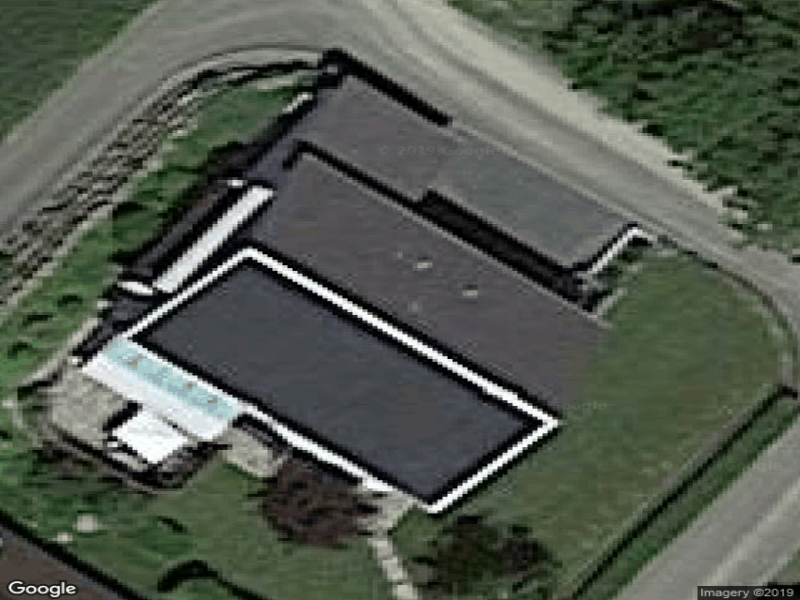pv: (129, 258, 543, 505)
